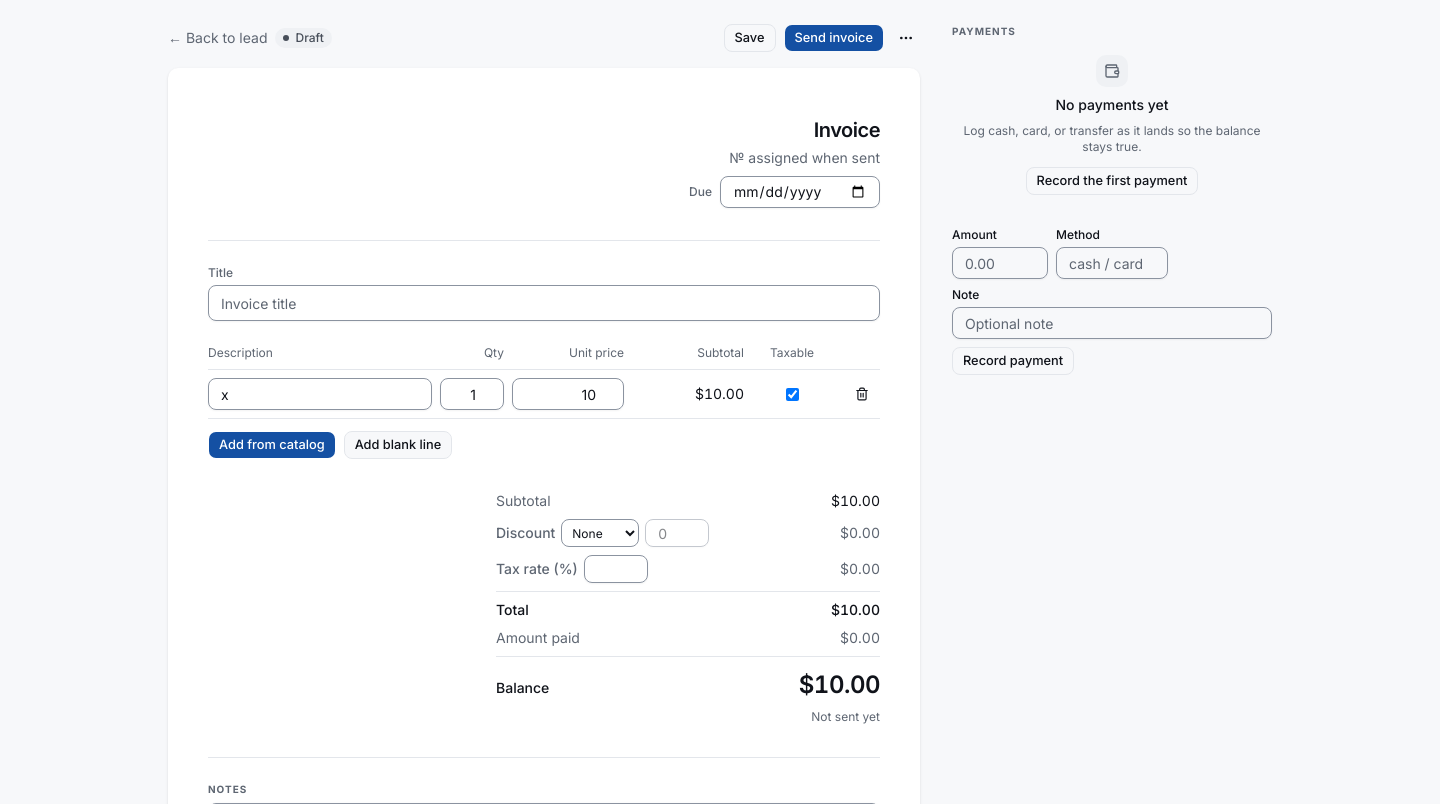
Scenario: InvoiceEditorClient — document › warns persistently when the send lands but the email does not
Click the button "Send invoice".
click(834, 38)  # box [784, 24, 884, 52]
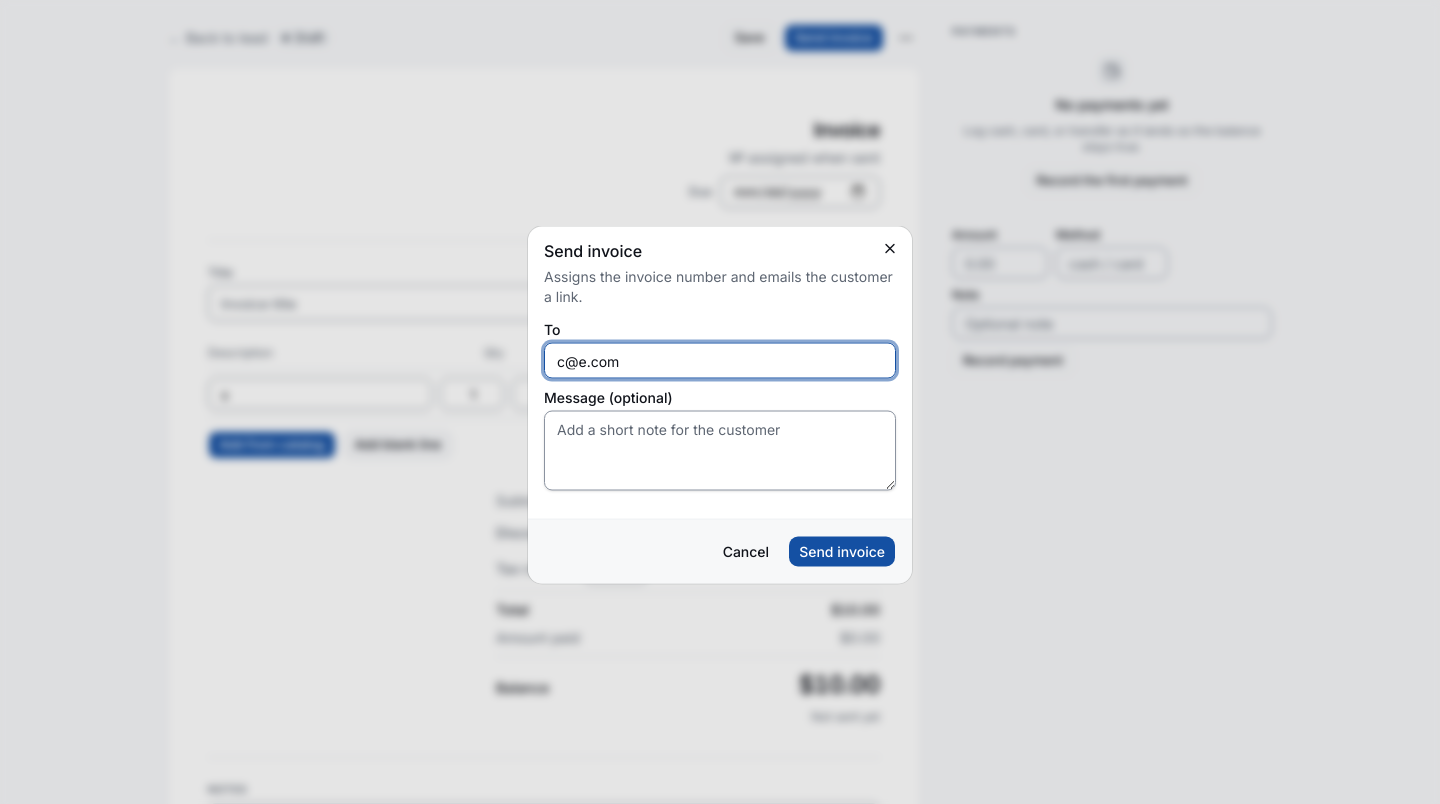
Click the button "Send invoice".
click(842, 552)  # box [788, 536, 896, 568]
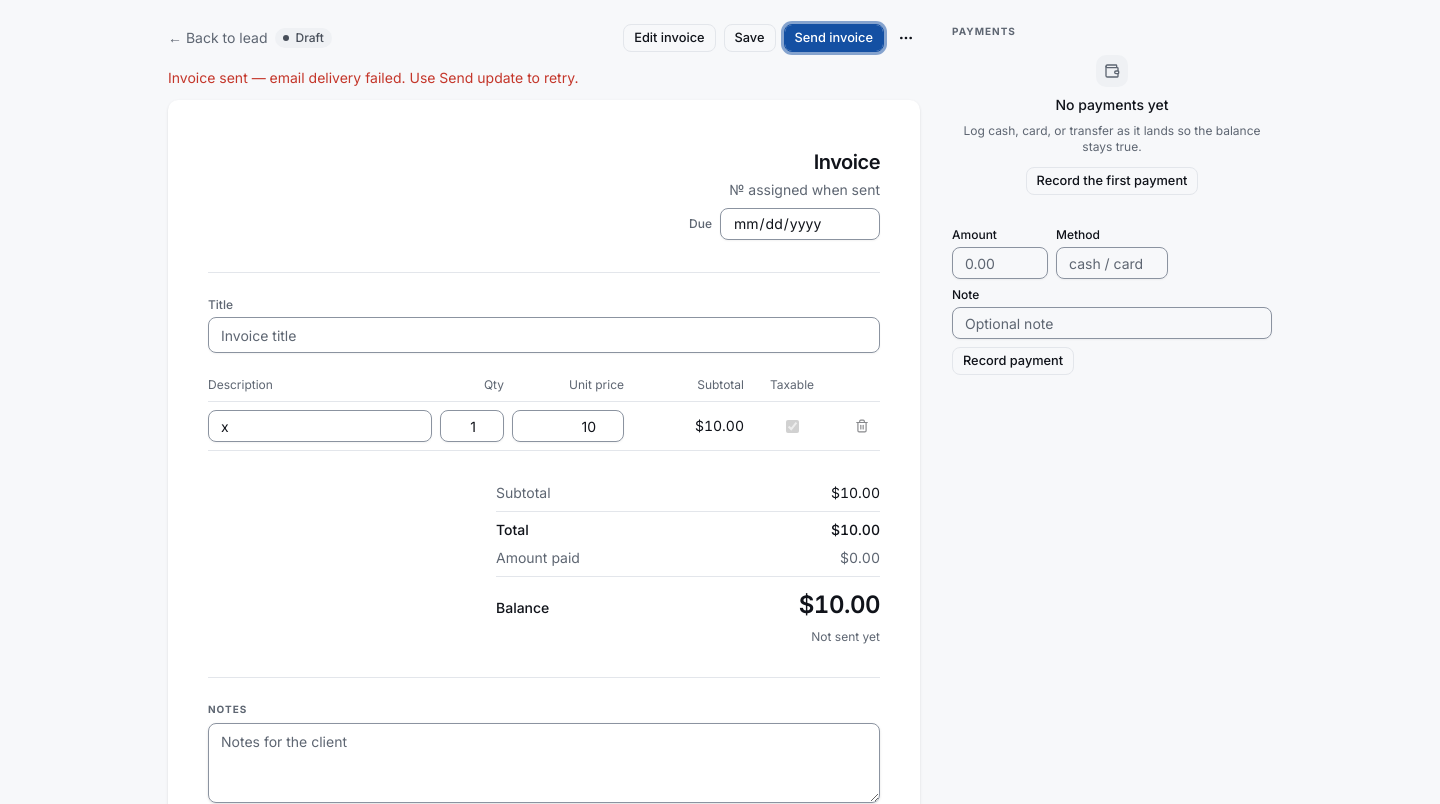
Expected: the text "email delivery failed" is shown, [168, 69, 578, 86]
